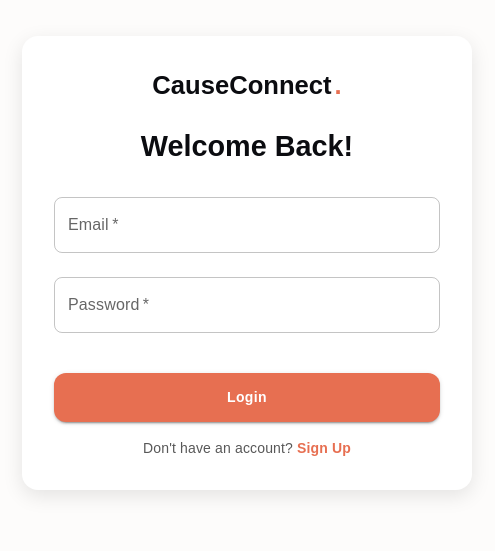
Test: Login Page › shows error message on failed login
Type "wrong@example.com" into the field labelled "Email *" at point(247, 225), box [54,197,440,253]
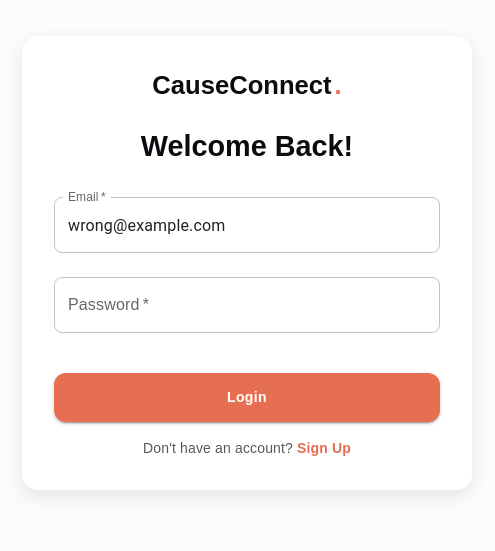
Type "wrongpass" into the password field labelled "Password *" at point(247, 305), box [54,277,440,333]
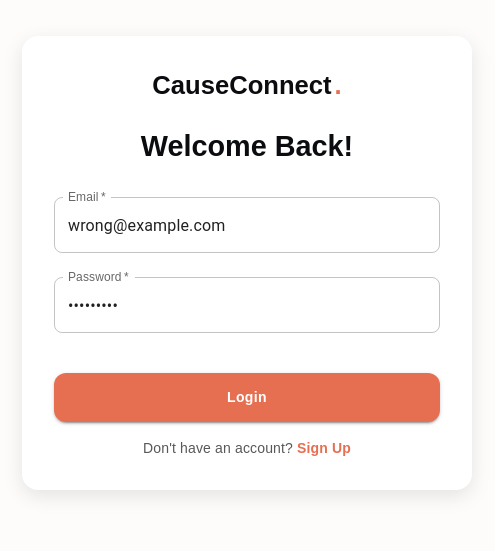
Click the button "Login" at point(247, 397), box [54,373,440,422]
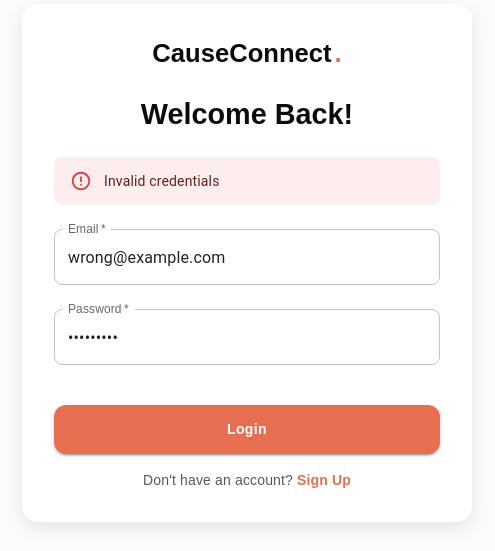
Now the text "Invalid credentials" is shown, box [104,173,220,189]
